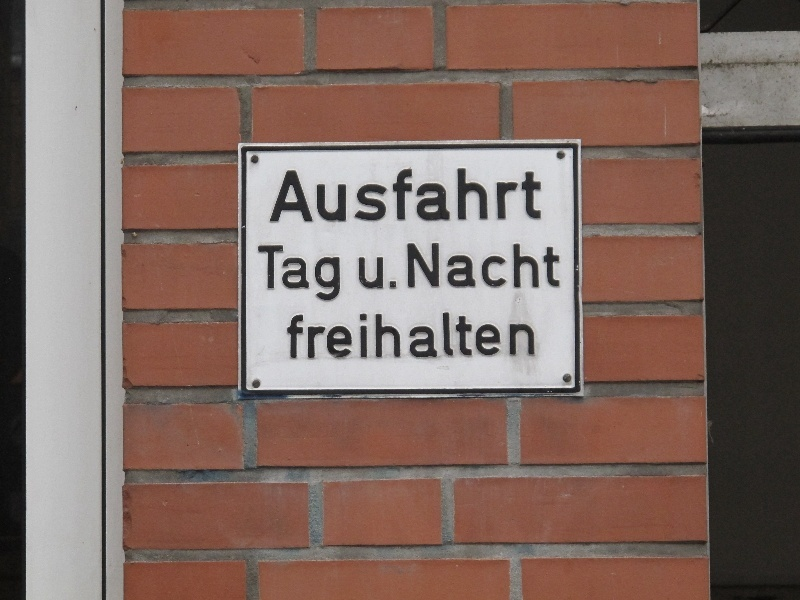text: (289, 163, 304, 225), (305, 163, 320, 225), (321, 163, 336, 225), (337, 163, 352, 225), (353, 163, 368, 225), (369, 163, 384, 225), (385, 163, 400, 225), (401, 163, 416, 225), (417, 163, 432, 225), (433, 163, 448, 225), (449, 163, 464, 225), (465, 163, 480, 225), (481, 163, 496, 225), (497, 163, 512, 225), (513, 163, 528, 225), (529, 163, 544, 225), (273, 244, 288, 305), (289, 244, 304, 305), (305, 244, 320, 305), (321, 244, 336, 305), (258, 244, 272, 305), (289, 309, 304, 361), (305, 309, 320, 361), (321, 309, 336, 361), (337, 309, 352, 361), (353, 309, 368, 361), (369, 309, 384, 361), (385, 309, 400, 361), (401, 309, 416, 361), (417, 309, 432, 361), (433, 309, 448, 361), (449, 309, 464, 361), (465, 309, 480, 361), (481, 309, 496, 361), (497, 309, 512, 361), (513, 309, 528, 361), (369, 240, 384, 290), (385, 240, 400, 290), (401, 240, 416, 290), (417, 240, 432, 290), (433, 240, 448, 290), (449, 240, 464, 290), (465, 240, 480, 290), (481, 240, 496, 290), (497, 240, 512, 290), (513, 240, 528, 290), (529, 240, 544, 290), (545, 240, 560, 290), (529, 309, 538, 361), (359, 240, 368, 290), (337, 244, 341, 305), (561, 240, 563, 290), (287, 163, 288, 225), (545, 163, 546, 225)
